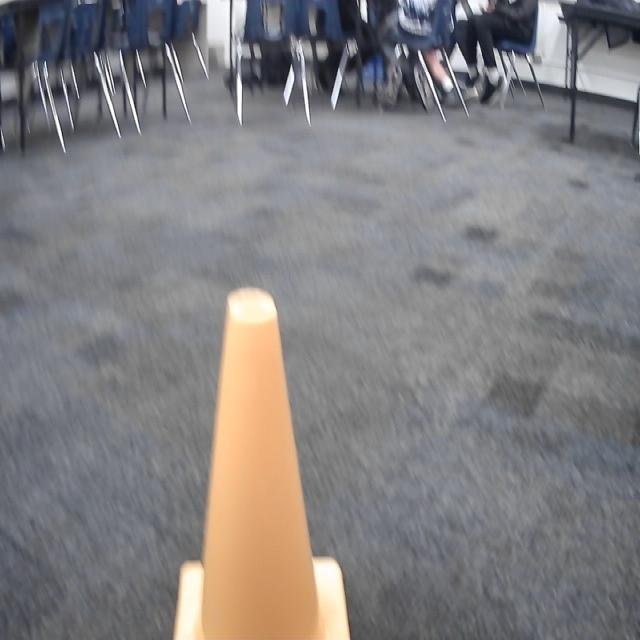cone: (172, 283, 350, 640)
